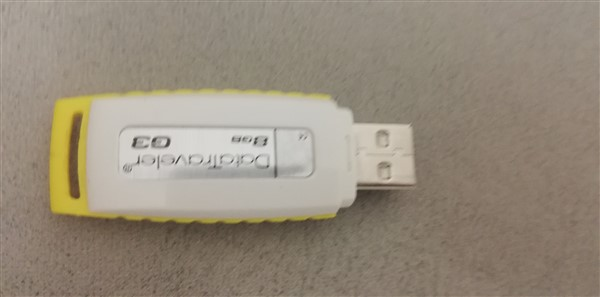flash disk: (45, 81, 427, 231)
